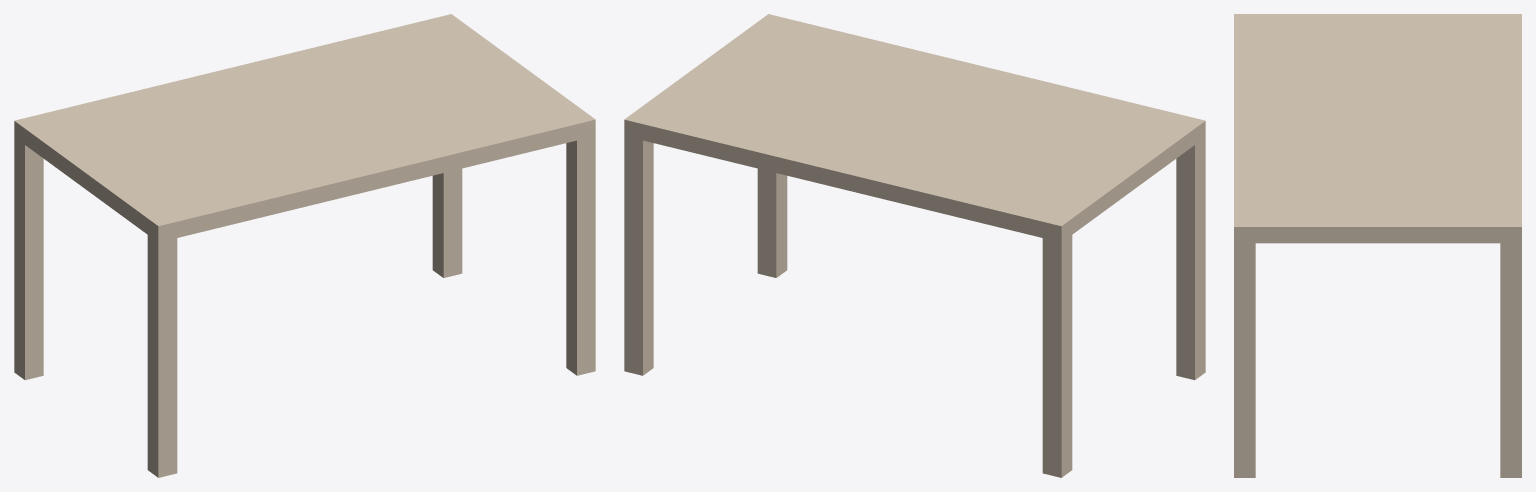
File: table.glb
3 renders of one model, left to right at view 1: azimuth 30°, elevation 25°; view 2: azimuth 150°, elevation 25°; view 3: azimuth 270°, elevation 25°, orthographic.
Bounding box in the file's own units: 1.4 × 0.77 × 0.8.
